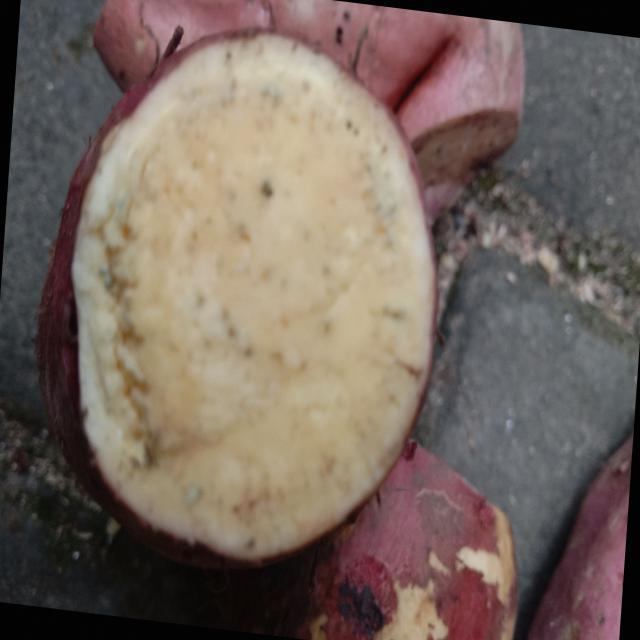Healthy Sweet Potato: (72, 35, 435, 560)
